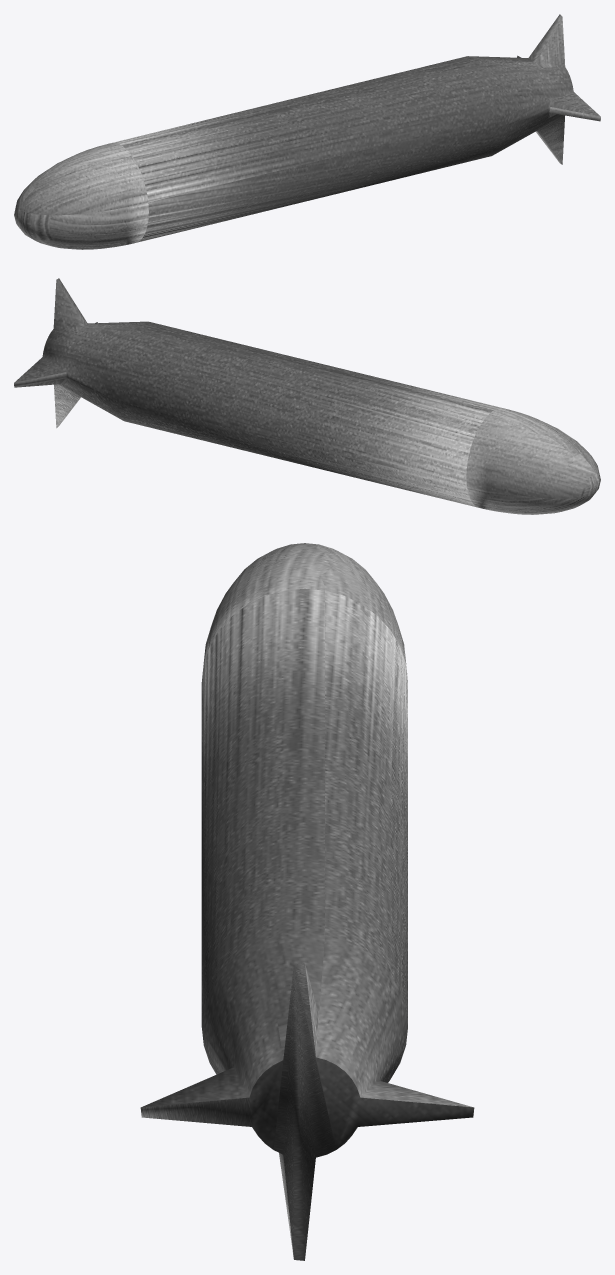
File: torpedo.fbx
3 renders of one model, top to bottom at view 1: azimuth 30°, elevation 25°; view 2: azimuth 150°, elevation 25°; view 3: azimuth 270°, elevation 25°, orthographic. The views are drawn at different scales.
Parts seen in each view (by area): view 1: Sphere; view 2: Sphere; view 3: Sphere.
Boxes of the visible parts, x1=… form: Sphere: x1=14, y1=14, x2=600, y2=249; Sphere: x1=14, y1=278, x2=600, y2=514; Sphere: x1=140, y1=543, x2=474, y2=1260.
Size of the model in its own units: 519 by 136 by 139.
